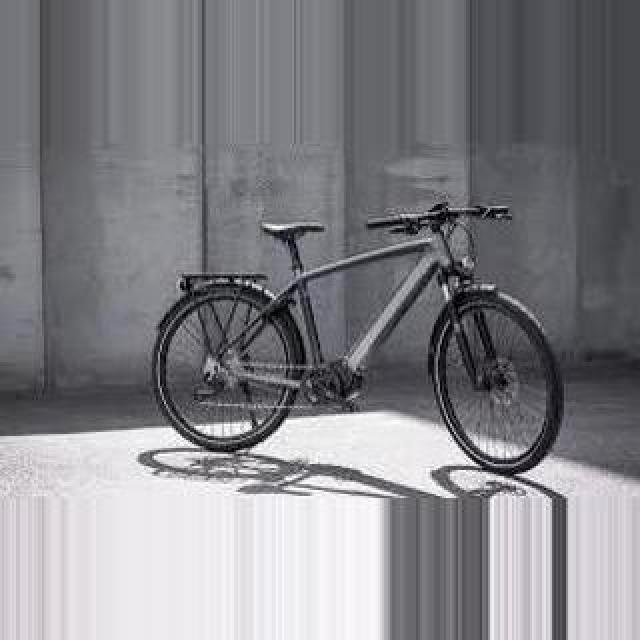Person: (151, 183, 561, 479)
